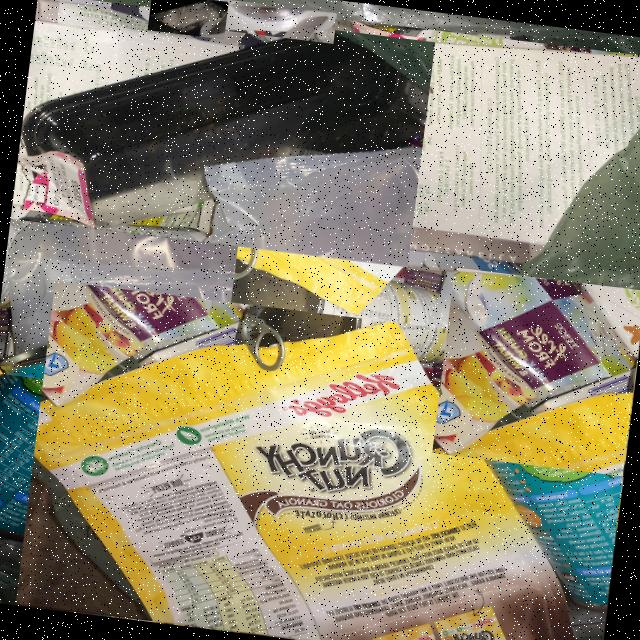Disposable food container: (21, 29, 428, 230)
Food Can: (0, 309, 213, 544), (207, 236, 445, 392)
Garbage bag: (190, 0, 640, 106), (15, 0, 170, 177)
Other carton: (182, 42, 640, 264), (433, 273, 637, 455)
Plastic film: (34, 323, 575, 640), (4, 127, 251, 400)
Spread tub: (203, 4, 335, 34)
Tissues: (149, 0, 226, 34)
